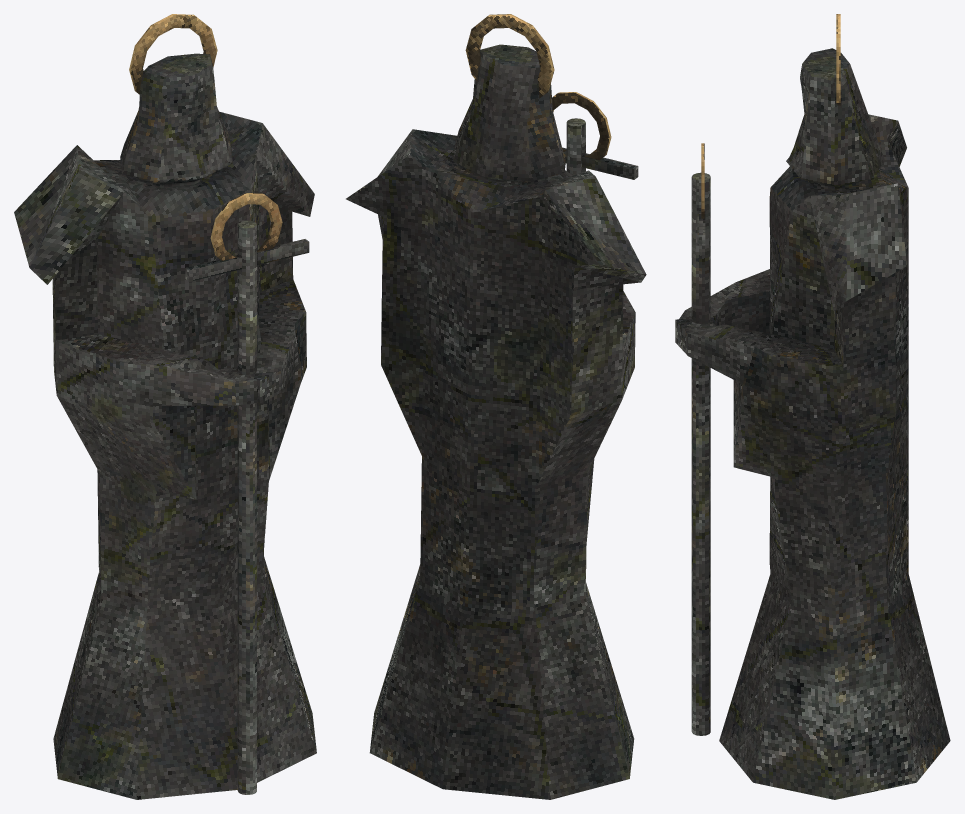
File: Guardian_3.gltf
The picture shows the model from 3 angles, left to right: view 1: azimuth 30°, elevation 25°; view 2: azimuth 150°, elevation 25°; view 3: azimuth 270°, elevation 25°; orthographic projection. The views are drawn at different scales.
Visible parts, largest first — view 1: Guardian_3; view 2: Guardian_3; view 3: Guardian_3.
Part boxes in pixels (bbox=[...]): Guardian_3: bbox=[14, 14, 316, 799]; Guardian_3: bbox=[346, 14, 646, 799]; Guardian_3: bbox=[675, 14, 950, 799].
Size of the model in its own units: 3.28 by 8.06 by 2.79.
Materials: 1 (1 with a texture image).
